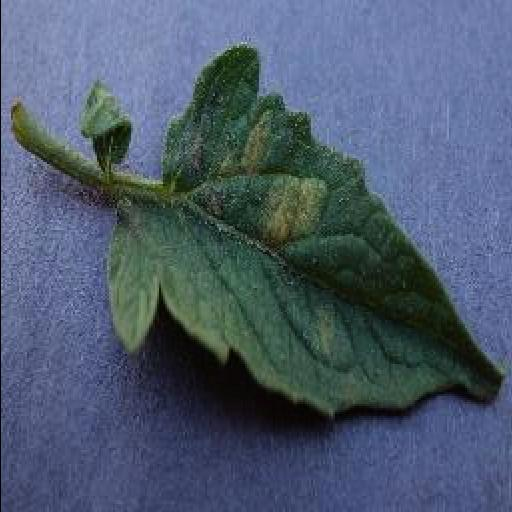disease_tomato: (104, 48, 504, 418)
